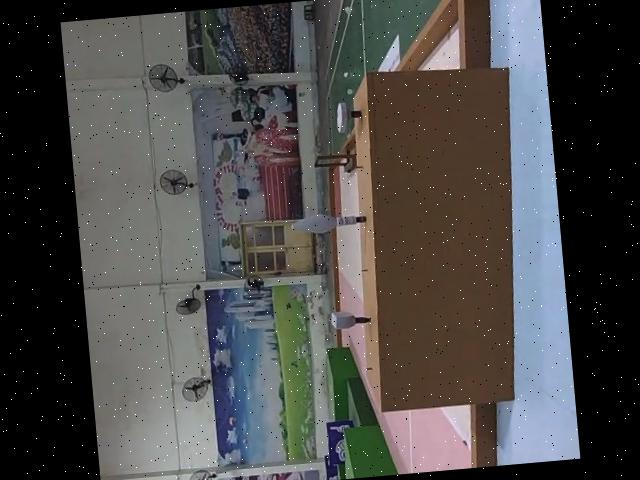Fist: (331, 308, 373, 332)
Hand: (332, 100, 363, 133)
Sph: (291, 207, 370, 235)
